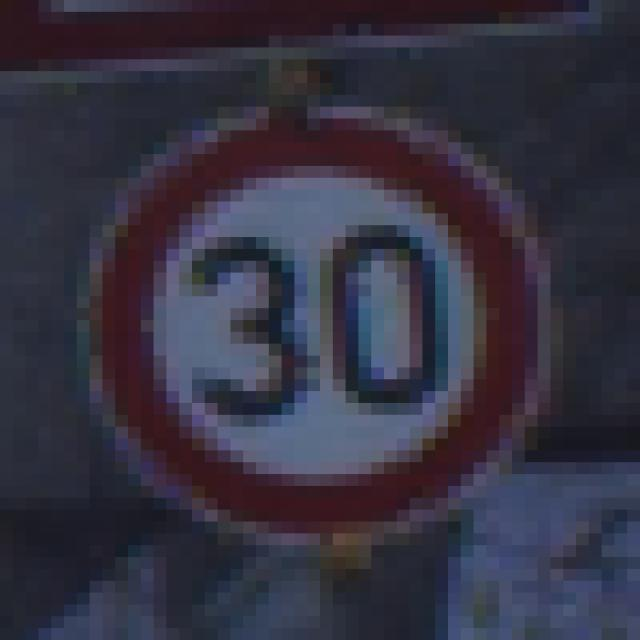Speed Limit -30-: (58, 59, 570, 569)
